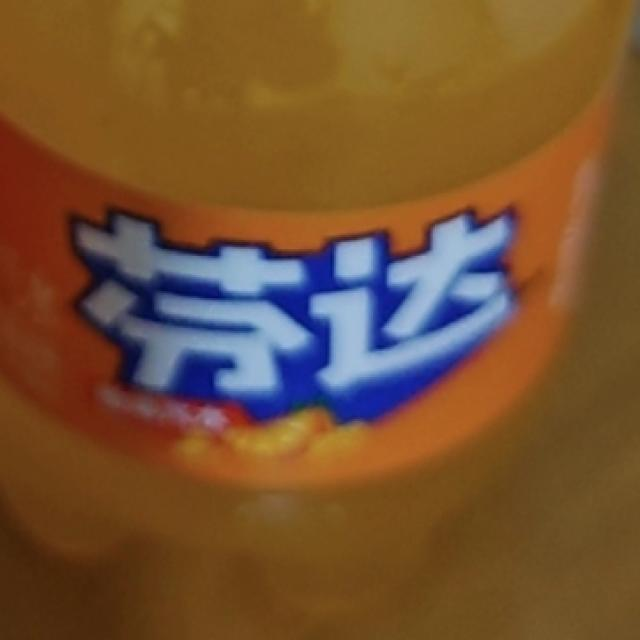orange: (57, 179, 539, 449)
